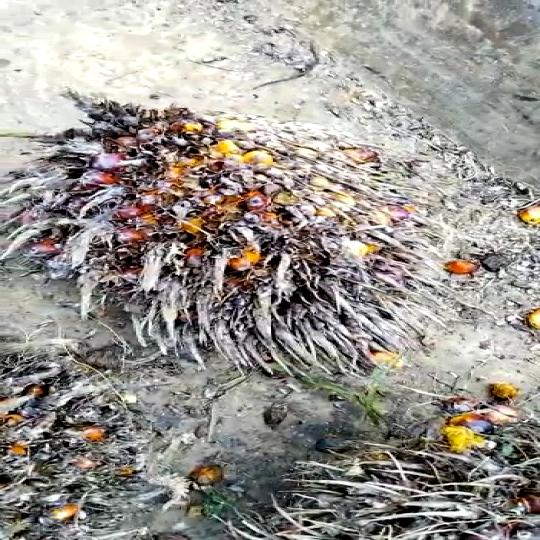terlalu masak: (0, 95, 460, 358)
